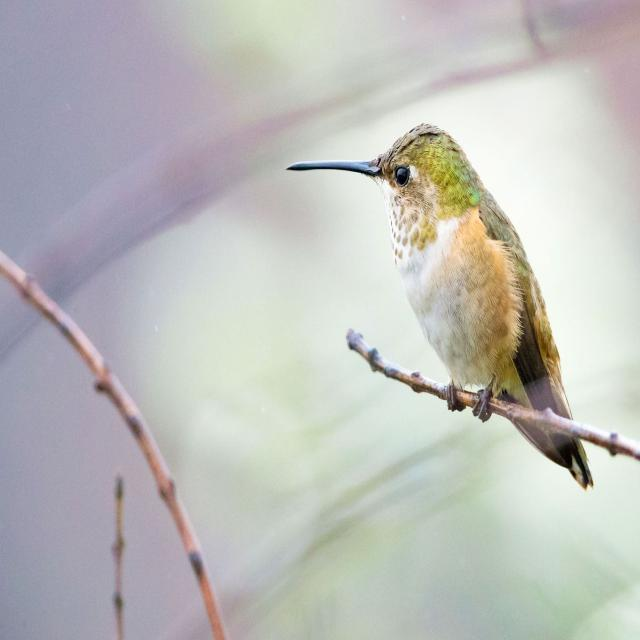Humming Bird: (282, 120, 587, 498)
